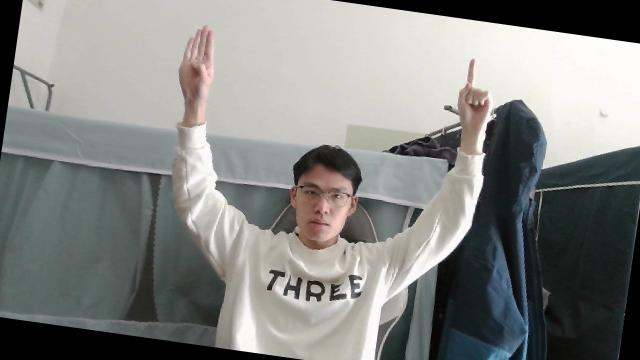four: (173, 22, 220, 100)
one: (454, 53, 498, 133)
